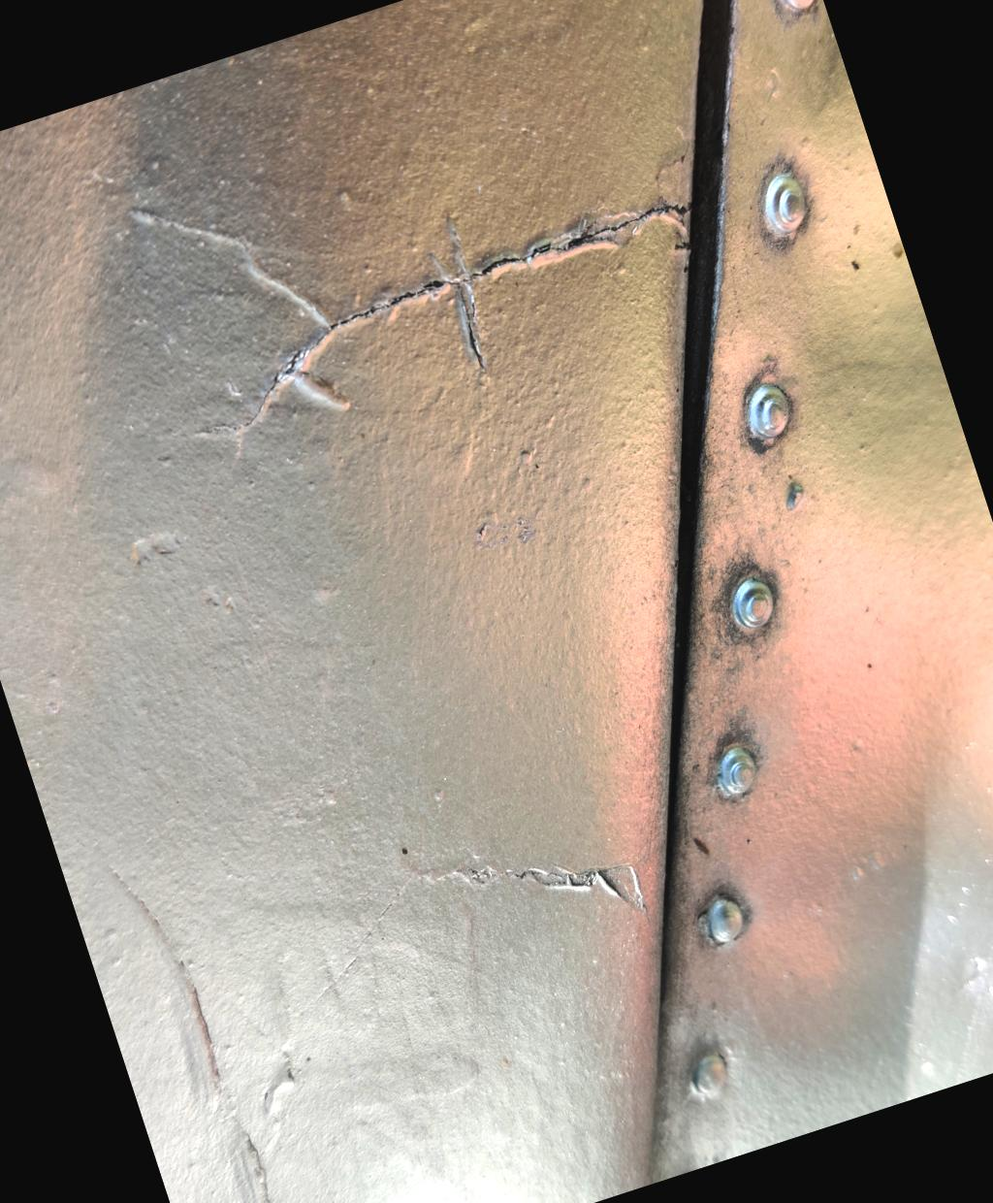crack: (9, 278, 473, 1022)
